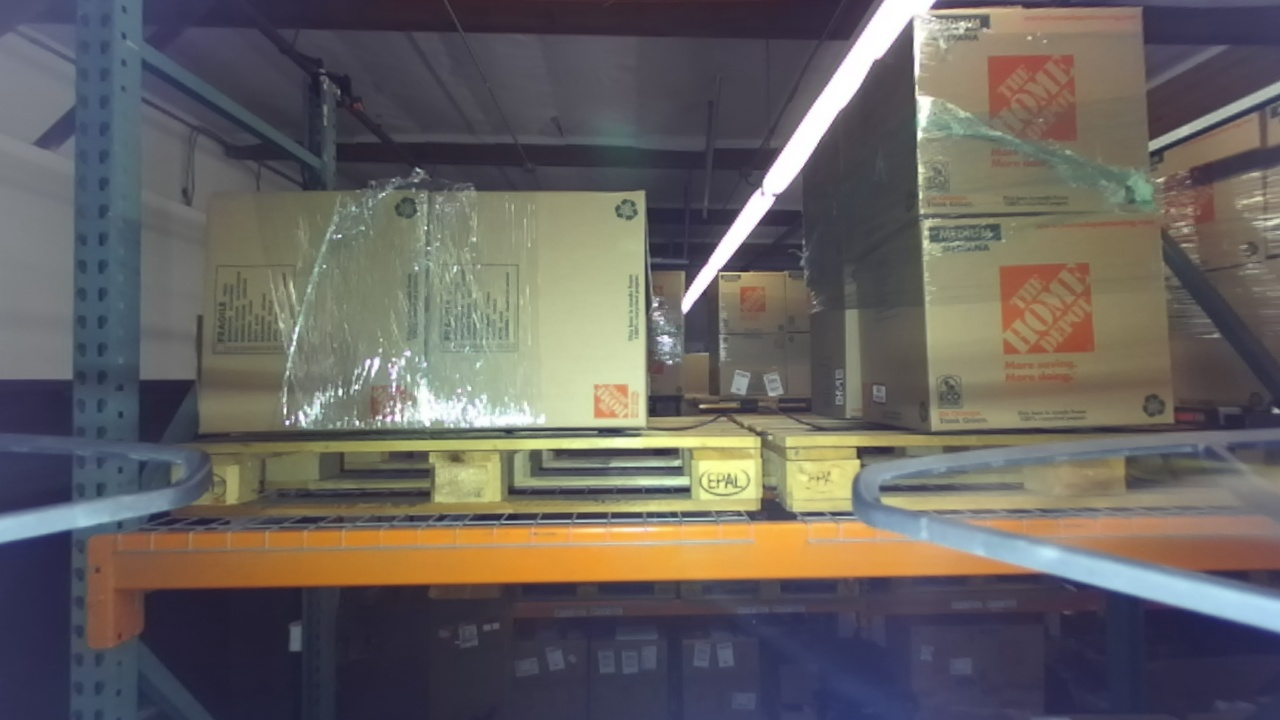box: (826, 208, 1205, 442), (824, 3, 1176, 225), (180, 178, 445, 445), (415, 170, 666, 437)
